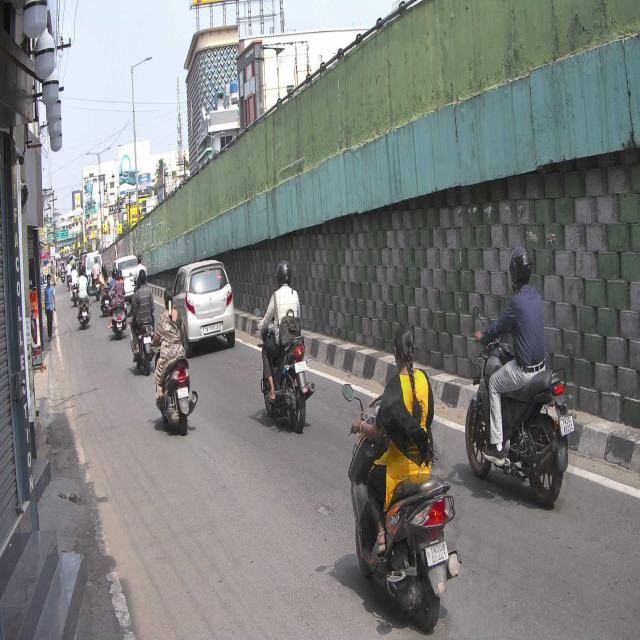single_rider: (348, 323, 460, 635), (465, 247, 574, 505), (255, 257, 313, 434), (153, 286, 199, 439)
